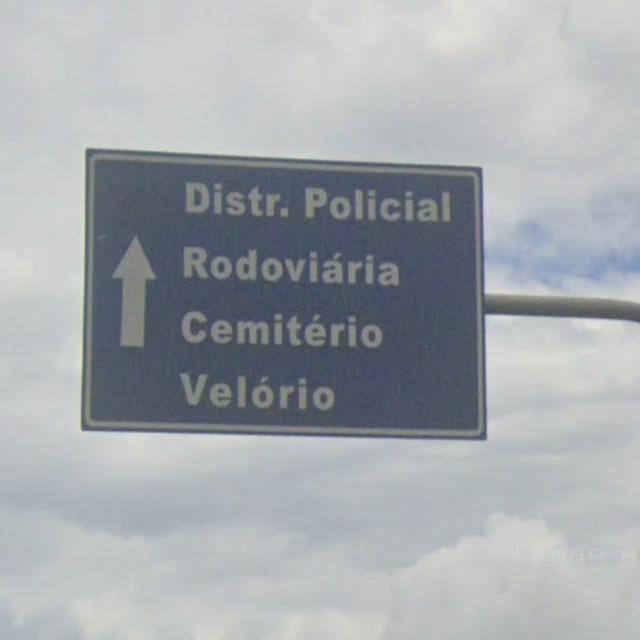indication: (75, 127, 509, 461)
